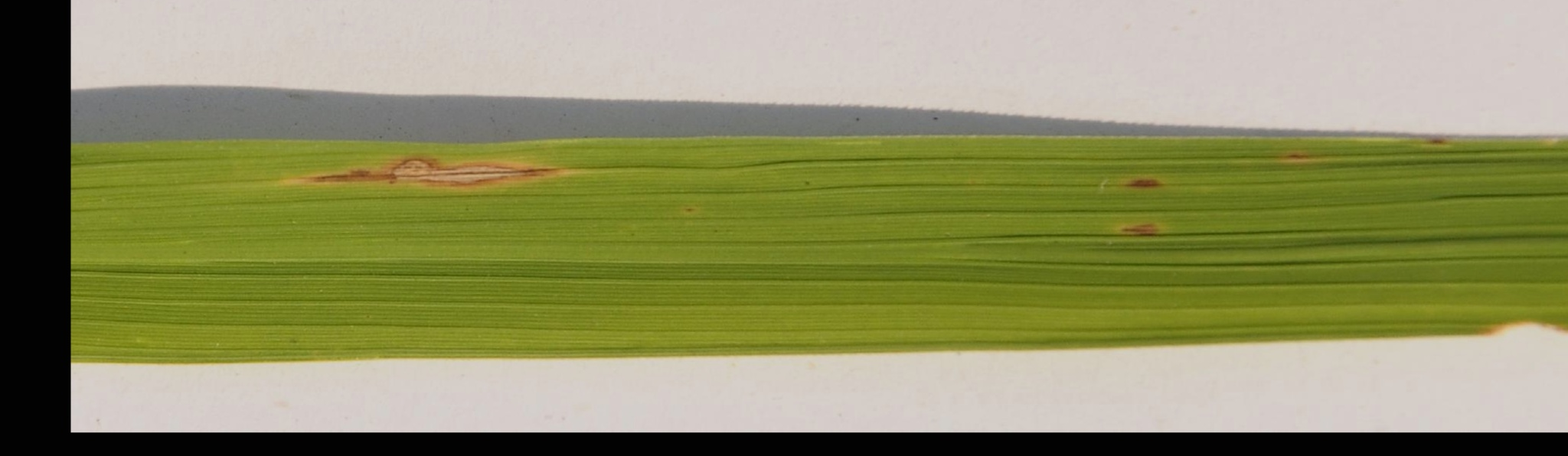Bacterial_Leaf_Blight: (215, 127, 572, 206), (1076, 154, 1195, 210), (1101, 207, 1183, 263)
